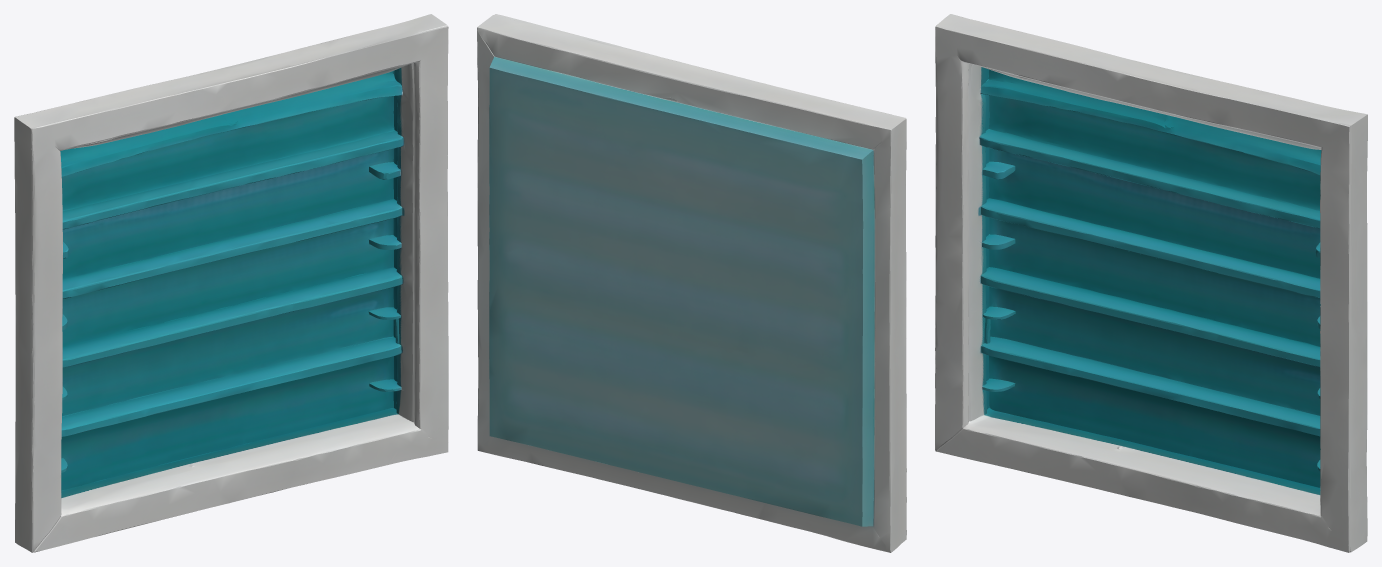
Rendered from window.glb.
3 views of the same model, side by side, from view 1: azimuth 30°, elevation 25°; view 2: azimuth 150°, elevation 25°; view 3: azimuth 330°, elevation 25° (orthographic).
Parts seen in each view (by area): view 1: model; view 2: model; view 3: model.
Part boxes in pixels (x1=…): model: x1=14, y1=14, x2=448, y2=552; model: x1=477, y1=14, x2=906, y2=552; model: x1=935, y1=14, x2=1367, y2=552.
Bounding box in the file's own units: 1.89 × 1.86 × 0.2187.
Materials: 1 (1 with a texture image).
